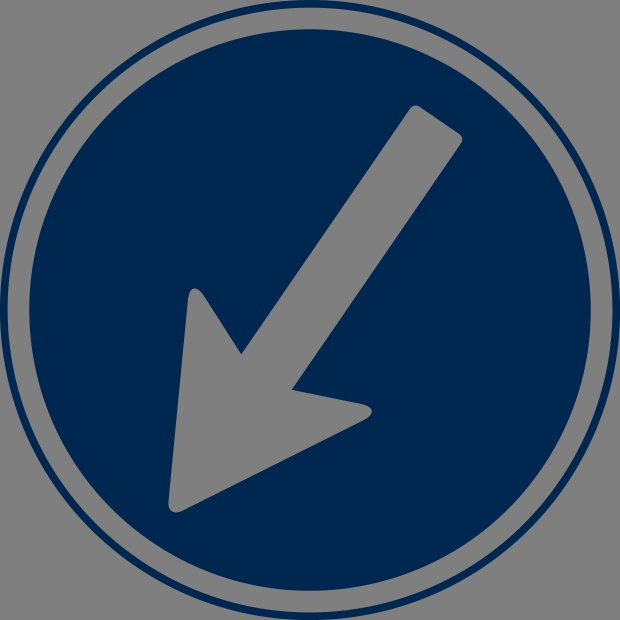Direction_sign: (1, 2, 618, 617)
